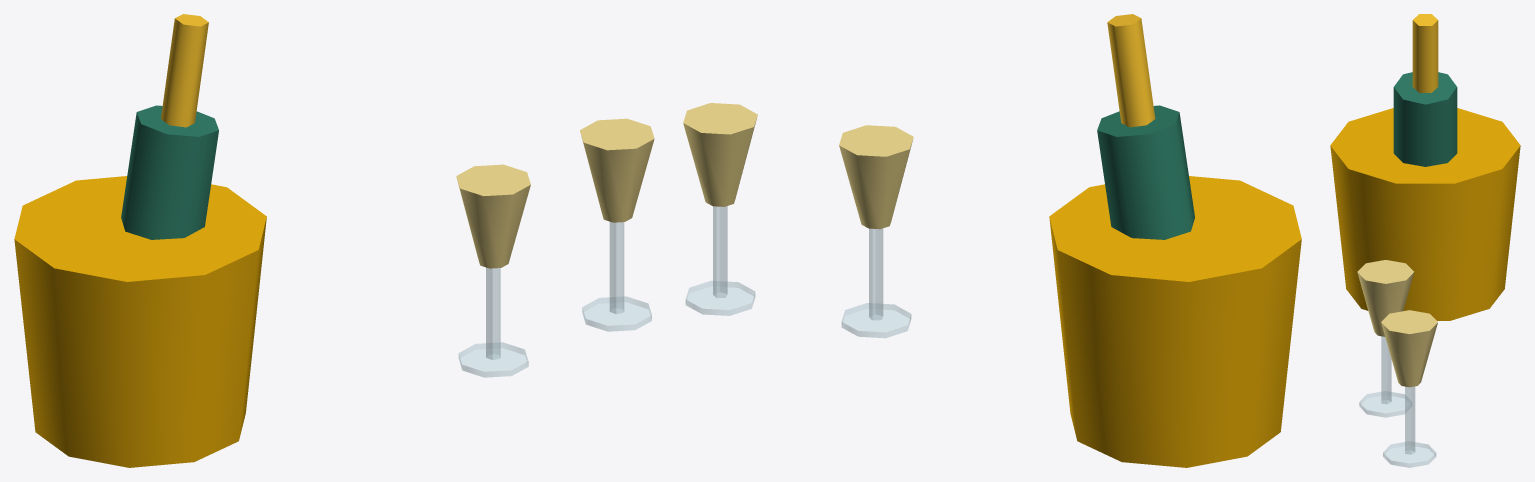
File: station_special_ausstattung_2_1.glb
3 renders of one model, left to right at view 1: azimuth 30°, elevation 25°; view 2: azimuth 150°, elevation 25°; view 3: azimuth 270°, elevation 25°, orthographic. The views are drawn at different scales.
Visible parts, largest first — view 1: station_special_ausstattung_2_1; view 2: station_special_ausstattung_2_1; view 3: station_special_ausstattung_2_1.
Part boxes in pixels (left/top/right/bottom): station_special_ausstattung_2_1: left=14, top=14, right=654, bottom=467; station_special_ausstattung_2_1: left=683, top=14, right=1301, bottom=467; station_special_ausstattung_2_1: left=1330, top=14, right=1520, bottom=467.
Bounding box in the file's own units: 0.6501 × 0.4021 × 0.24.
